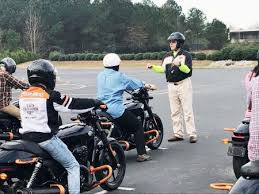helmet: (25, 57, 57, 90), (102, 51, 123, 69), (167, 31, 185, 51)
